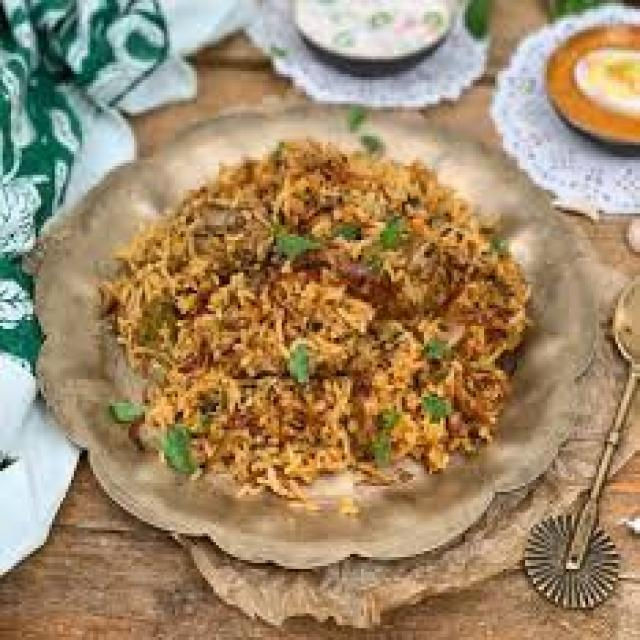chicken biryani: (115, 170, 520, 507)
